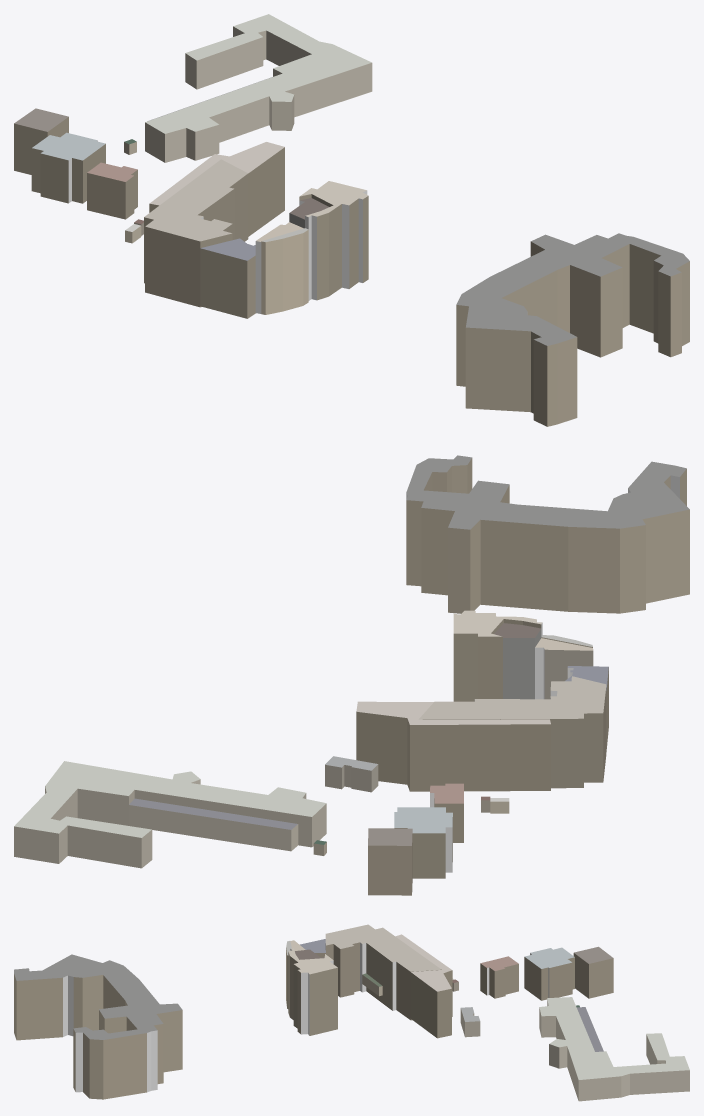
3 views of the same model, one above another, from view 1: azimuth 30°, elevation 25°; view 2: azimuth 150°, elevation 25°; view 3: azimuth 270°, elevation 25° (orthographic). The views are drawn at different scales.
Visible parts, largest first — view 1: tuile; view 2: tuile; view 3: tuile.
Part boxes in pixels (x1=…): tuile: x1=14, y1=14, x2=689, y2=426; tuile: x1=14, y1=455, x2=689, y2=895; tuile: x1=14, y1=924, x2=689, y2=1101.
Bounding box in the file's own units: 123 × 27.69 × 265.
